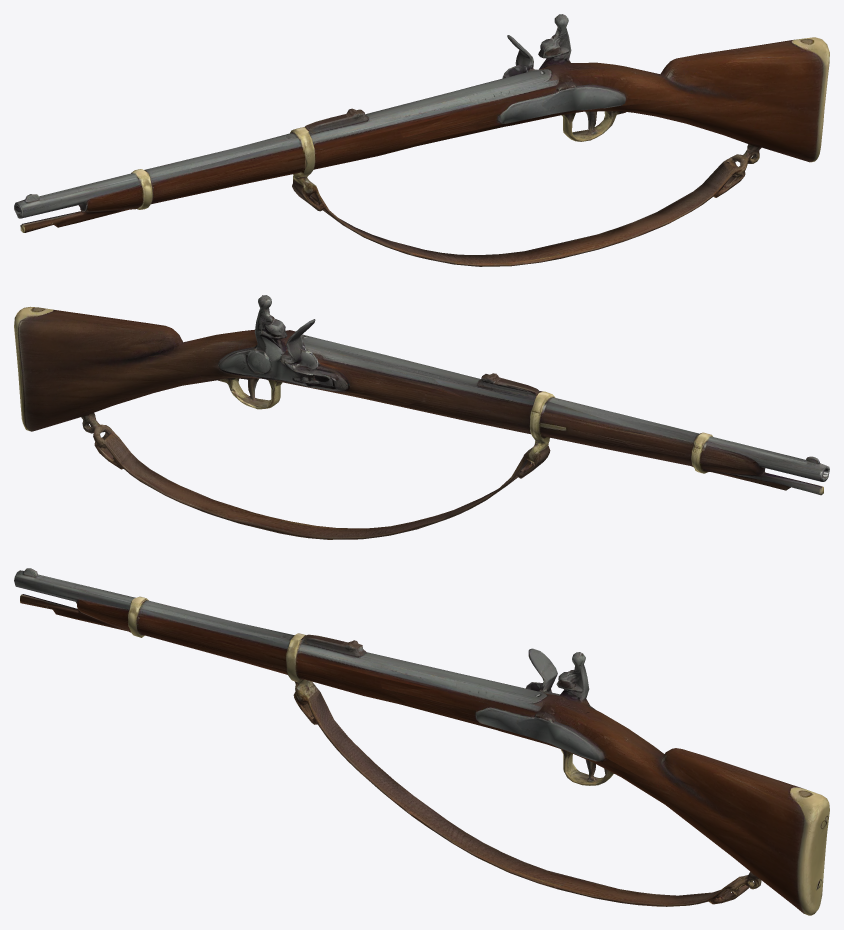
File: 4fb92659-06c6-4bbe-b0d3-ed21f37c2c8b.glb
3 views of the same model, one above another, from view 1: azimuth 30°, elevation 25°; view 2: azimuth 150°, elevation 25°; view 3: azimuth 330°, elevation 25° (orthographic).
Visible parts, largest first — view 1: Mesh_0; view 2: Mesh_0; view 3: Mesh_0.
Boxes of the visible parts, box(x1,y1,x2,y2) form: Mesh_0: box(14, 14, 829, 266); Mesh_0: box(14, 295, 829, 539); Mesh_0: box(14, 568, 829, 915).
Size of the model in its own units: 0.5458 by 0.15 by 0.0383.
Materials: 1 (1 with a texture image).
